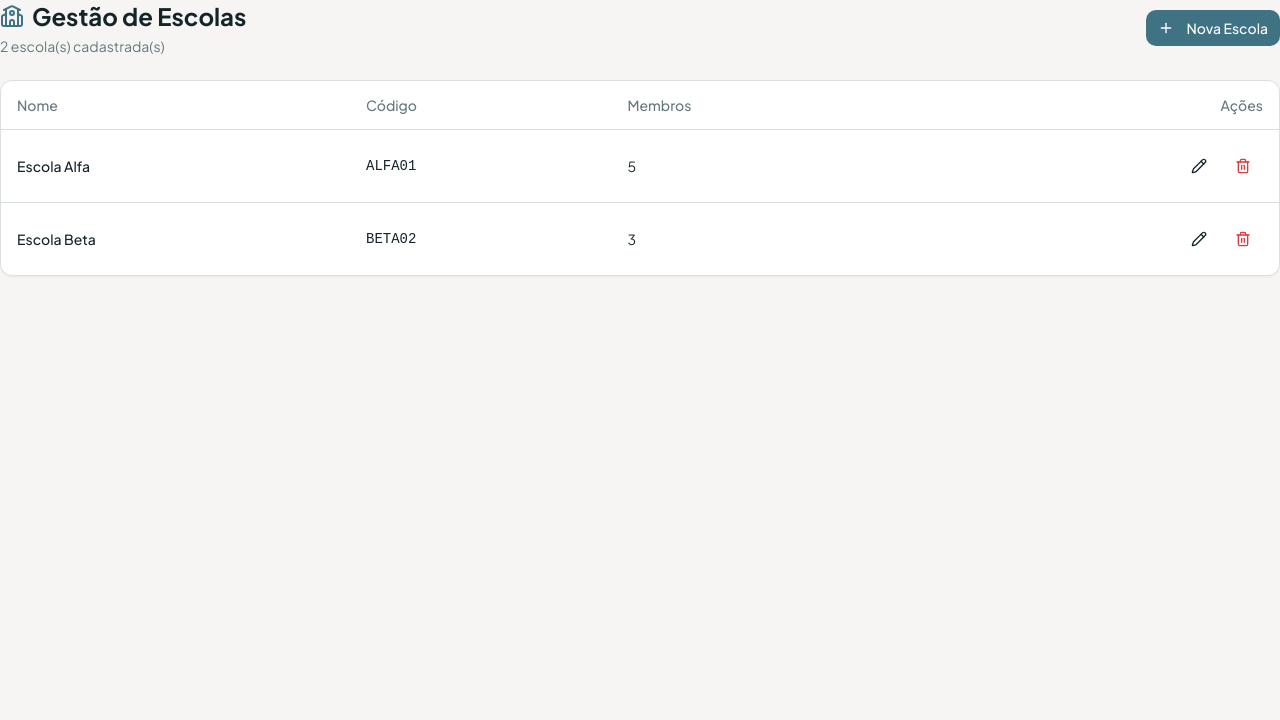
SchoolManagement › Edit school dialog › closes dialog after successful edit
Step 1. Click the button titled "Editar" in the row of "Escola Alfa" → (1199, 166), box [1179, 146, 1219, 186]
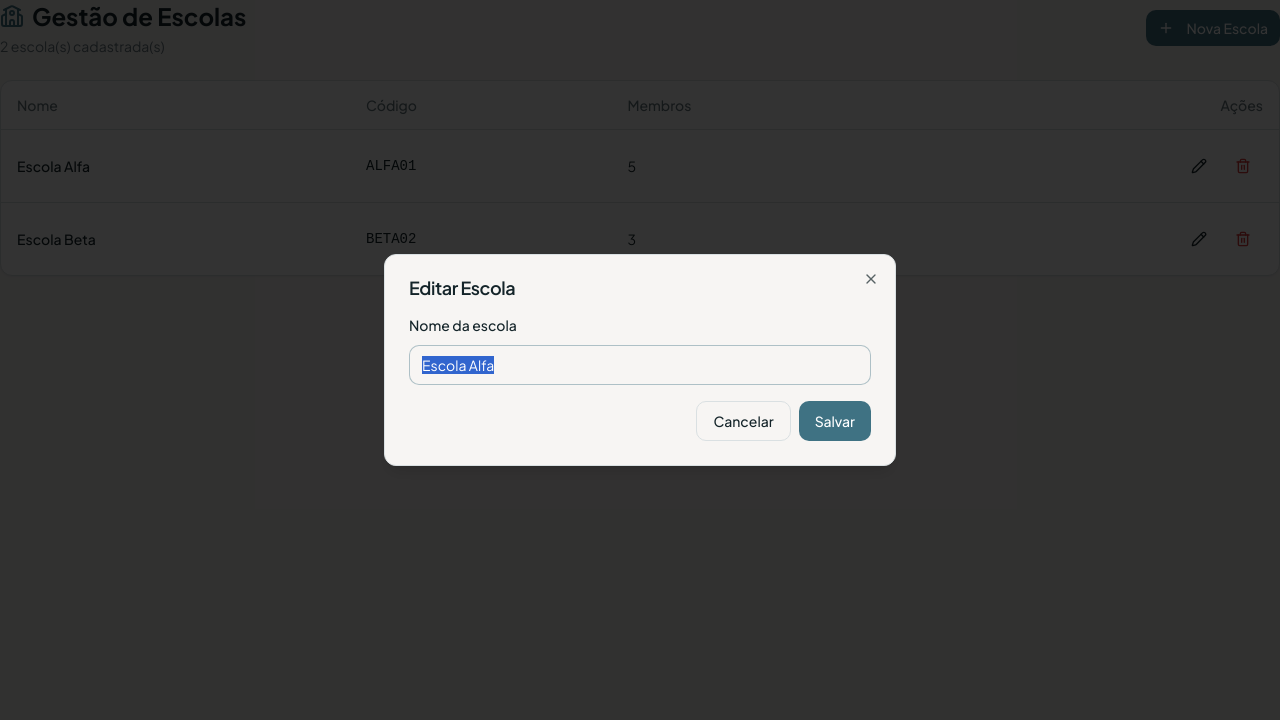
Expected: the dialog is shown, [384, 254, 896, 466]
Step 2. Replace the text in the field labelled "Nome da escola" with "Novo Nome" → (640, 365), box [409, 345, 871, 385]
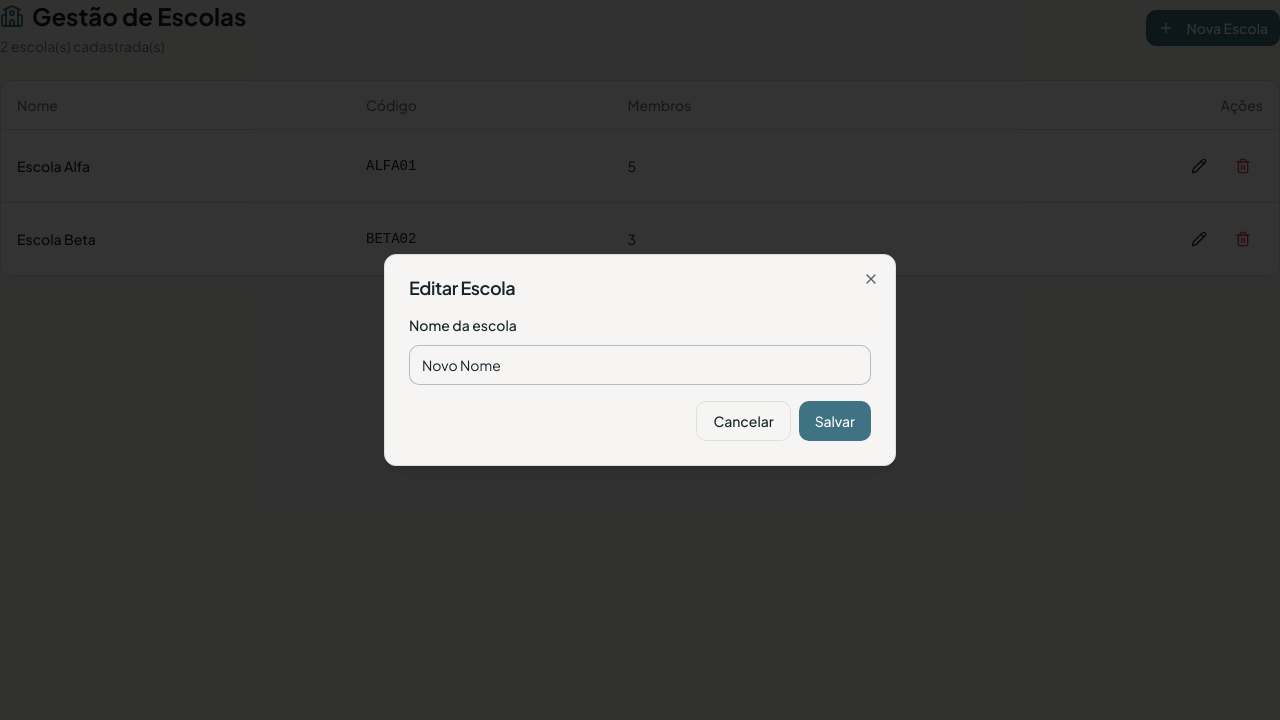
Step 3. Click the button "Salvar" → (835, 421), box [799, 401, 871, 441]
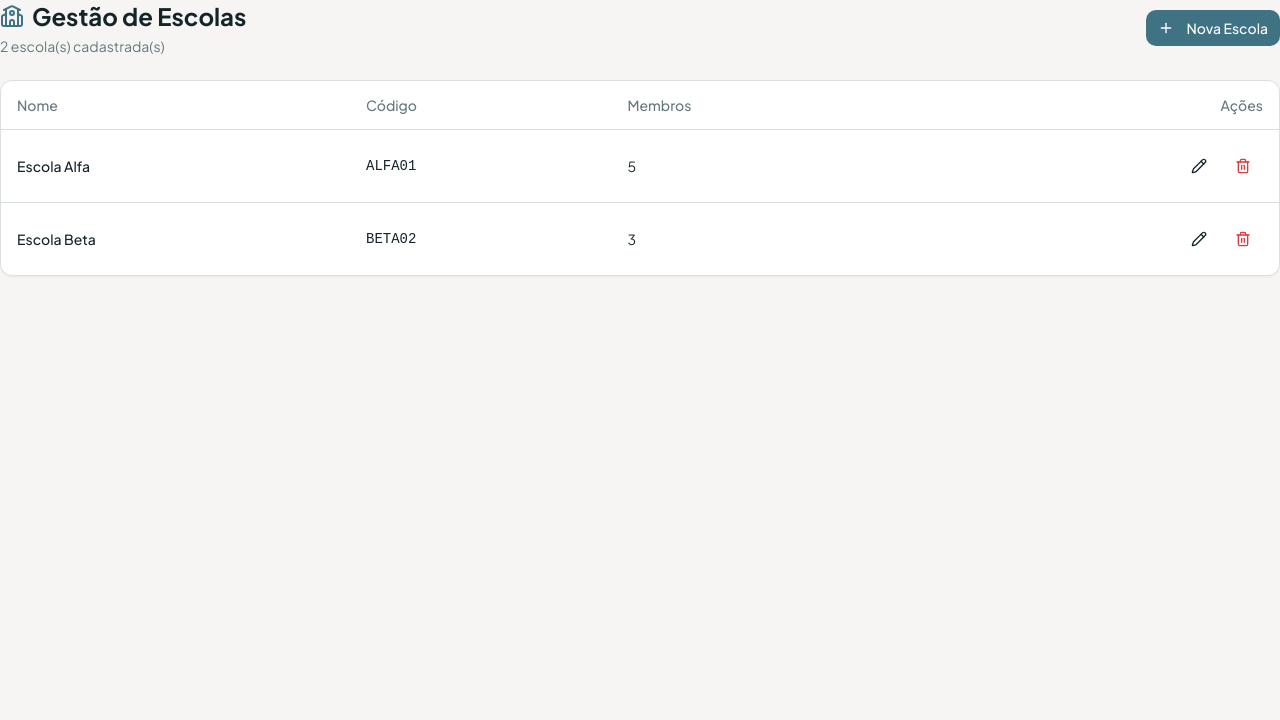
Expected: the dialog is gone
